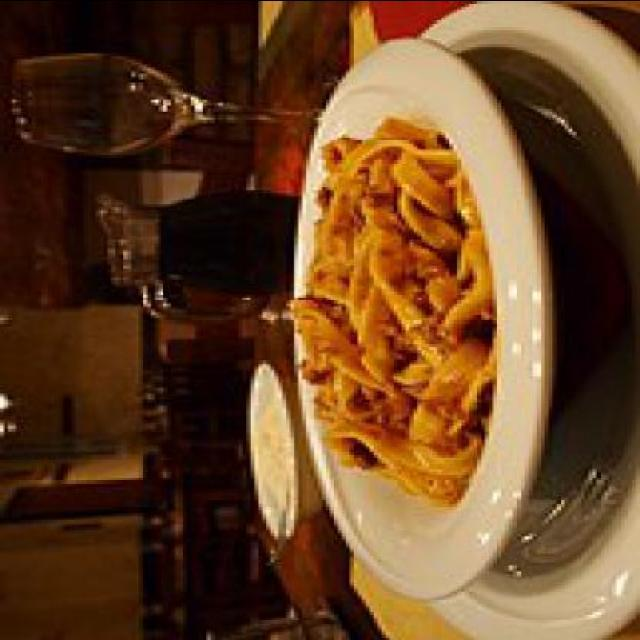Pasta al ragu: (250, 8, 541, 550)
